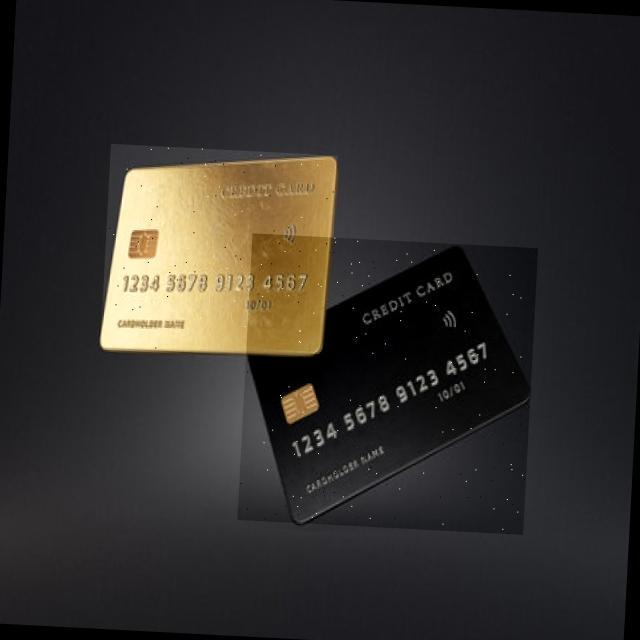payment_card: (241, 242, 533, 526), (98, 144, 337, 356)
